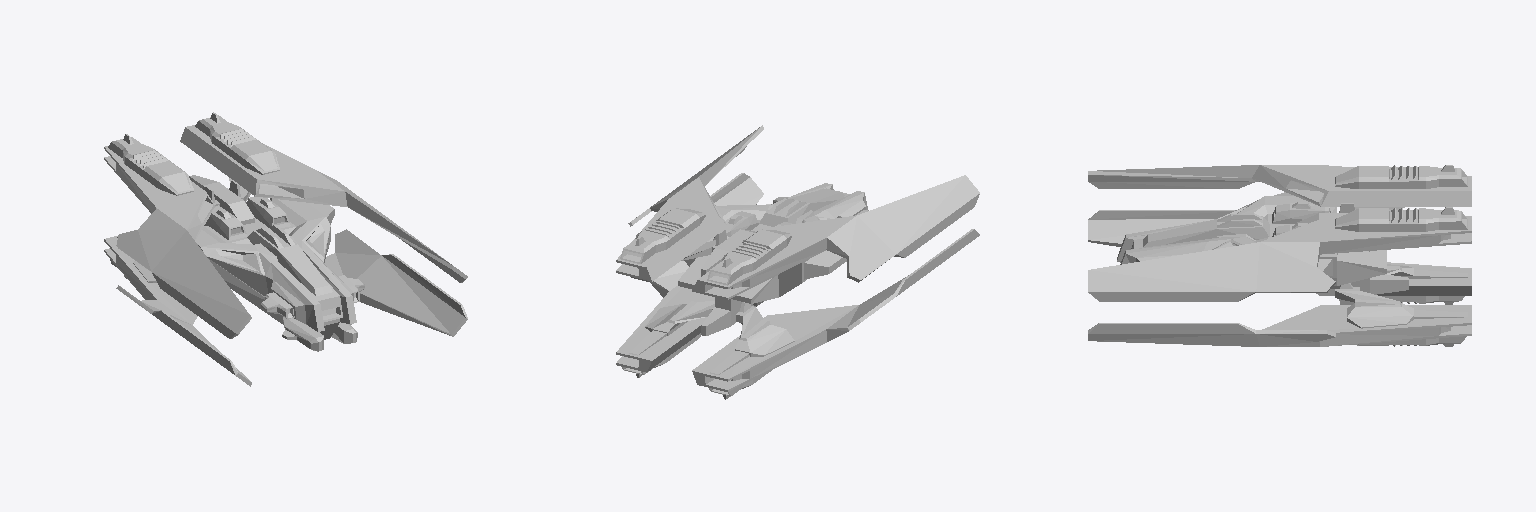
The model's file is spaceship5z.obj.
The picture shows the model from 3 angles: view 1: azimuth 30°, elevation 25°; view 2: azimuth 150°, elevation 25°; view 3: azimuth 270°, elevation 25°; orthographic projection.
Visible parts, largest first — view 1: spaceship5; view 2: spaceship5; view 3: spaceship5.
Boxes of the visible parts, x1,y1,x2,y2 form: spaceship5: [104, 112, 467, 386]; spaceship5: [616, 125, 979, 399]; spaceship5: [1088, 165, 1471, 346].
Bounding box in the file's own units: 0.7 × 0.4 × 1.